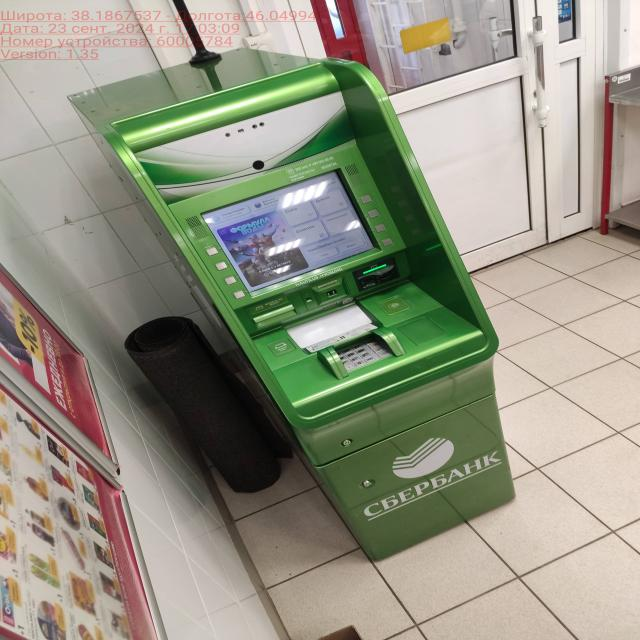bank: (67, 45, 517, 565)
